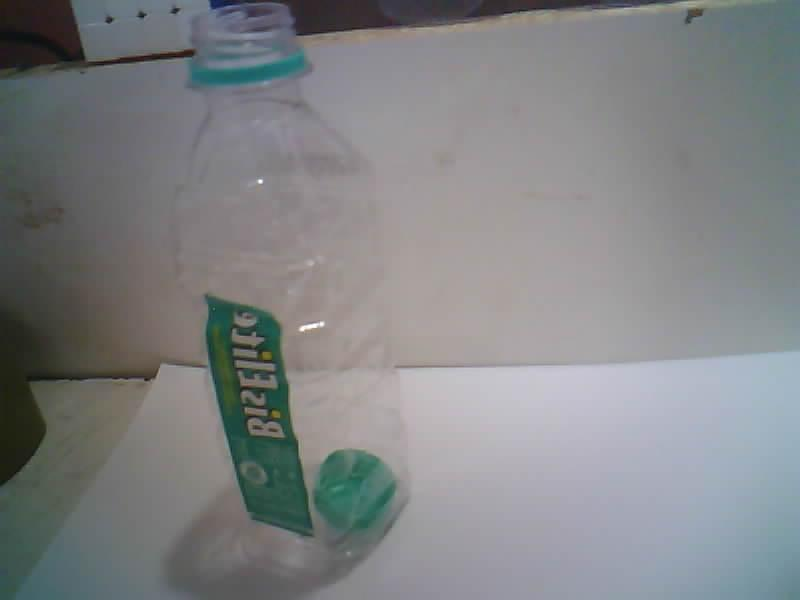non-biodegradable: (175, 3, 406, 556)
